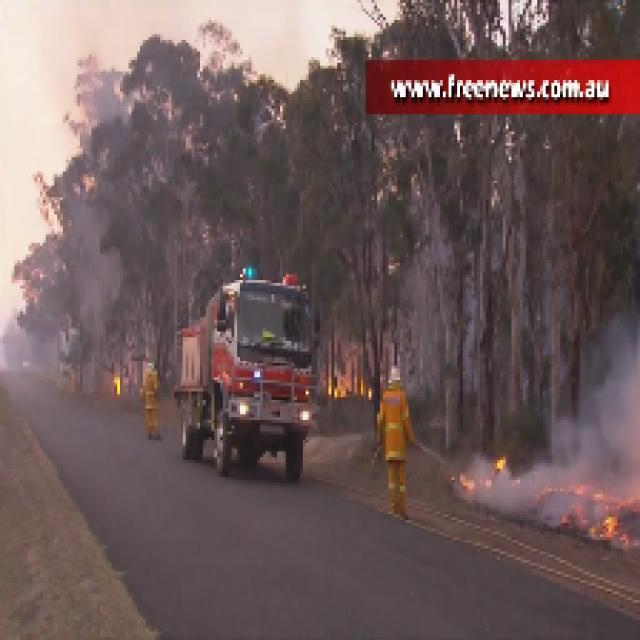Smoke: (57, 23, 134, 346), (534, 323, 637, 480)
